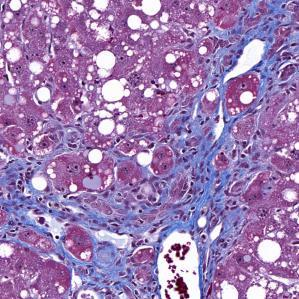fibrosis: (160, 112, 264, 221), (205, 0, 299, 111), (56, 200, 154, 282), (0, 150, 73, 250)
